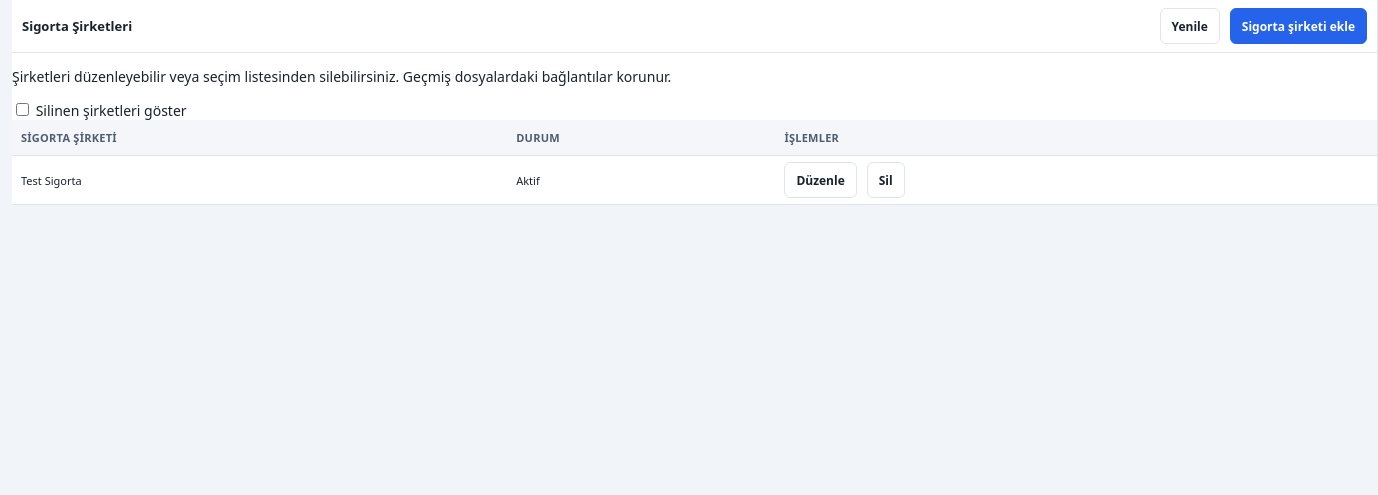
Test: actual administration forms › submits insurer revisions with a version and retains text on conflict
Click the button with aria-label "Test Sigorta şirketini düzenle".
click(821, 180)  # box [784,162,857,198]
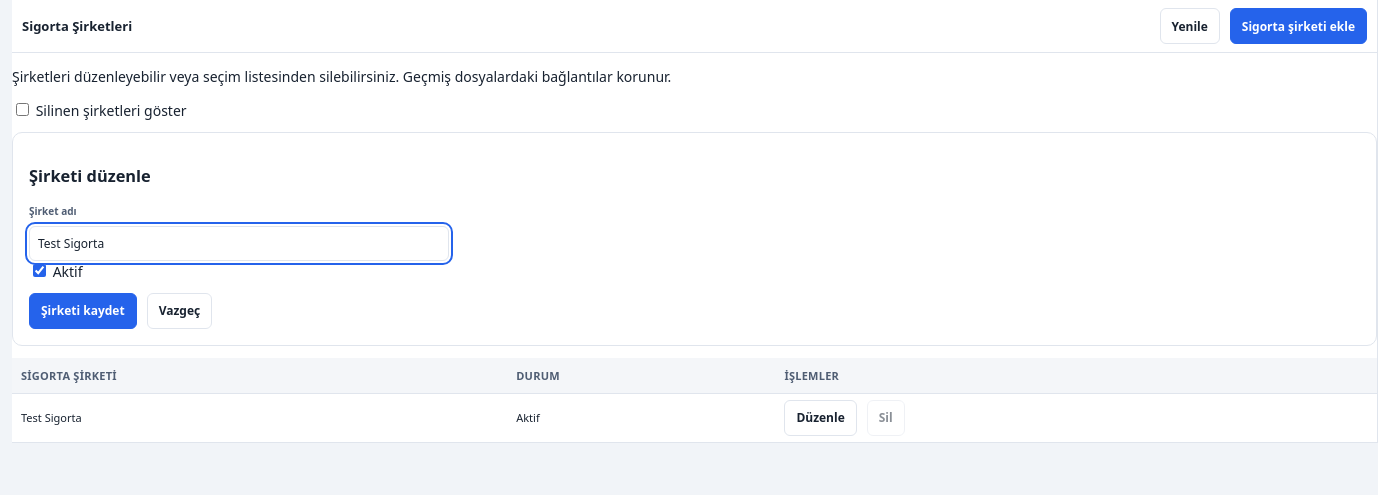
Replace the text in the field labelled "Şirket adı" with "Revize Sigorta" at (239, 243), box [29,226,449,261]
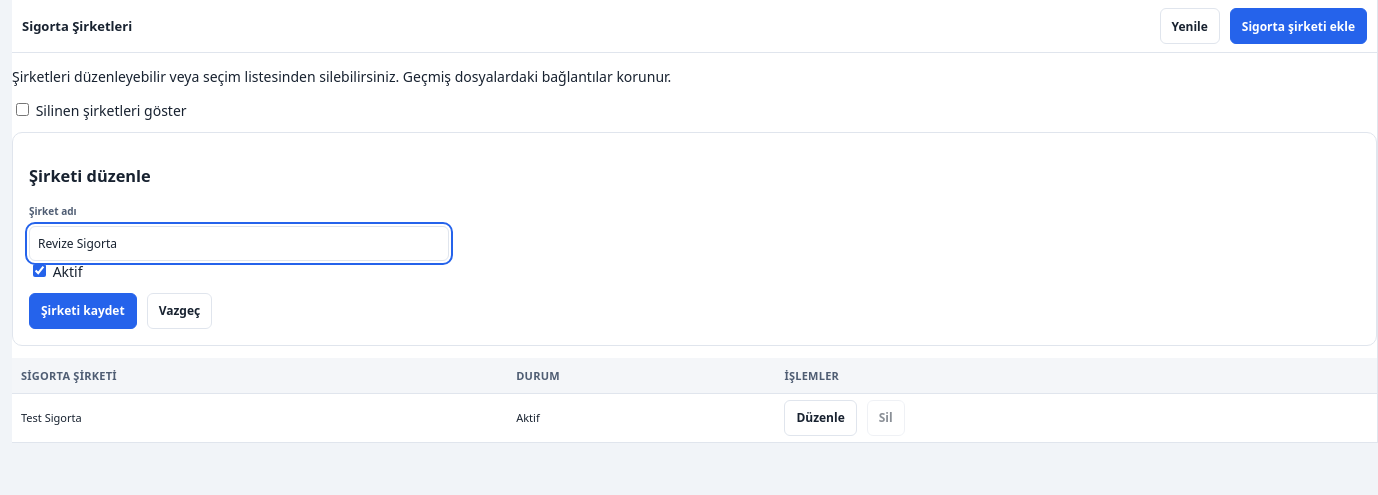
Click the button "Şirketi kaydet".
click(83, 311)  # box [29,293,137,329]
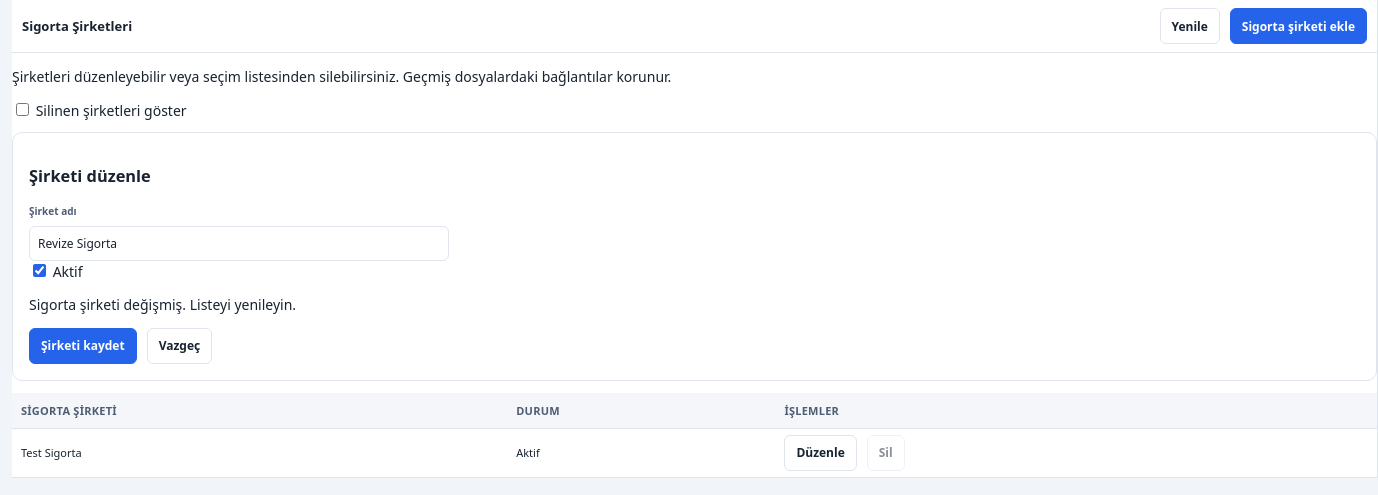
Expected: the message shows "Sigorta şirketi değişmiş", [29,295,296,314]
